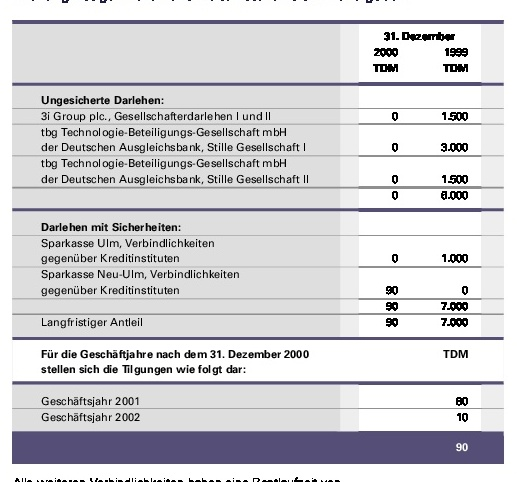table: (0, 0, 517, 482)
